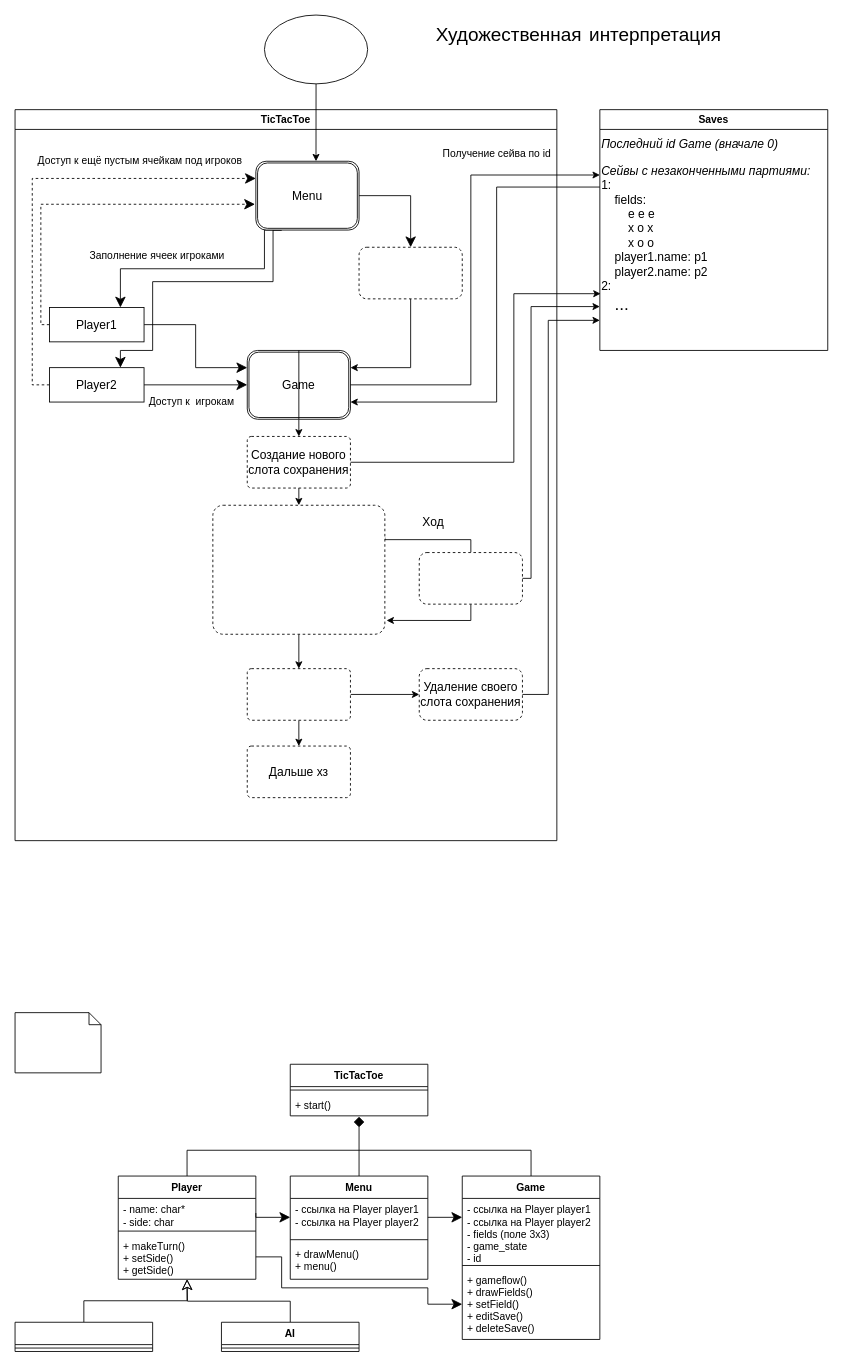
Some shapes in this 863 by 1367 pixel diagram are drawn without their labels. Here are the shapes that lost their labels. From the top down, the centre of each, then its label:
At pixel 316 49: "Внешняя программа".
At pixel 410 272: "Выбор сохранения с save_id".
At pixel 298 569: "Увлекательный геймплей крестиков ноликов".
At pixel 470 578: "Редактирования своего слота сохранения".
At pixel 298 694: "Конец игры".
At pixel 57 1042: "Попытка сделать в стиле UML".
At pixel 83 1336: "Human".
